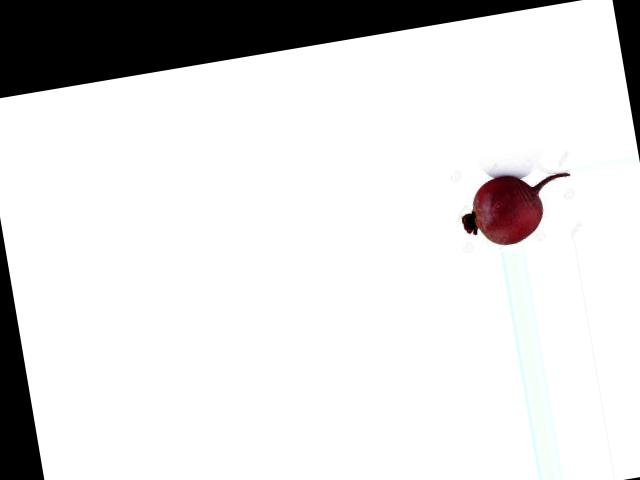beet: (456, 165, 579, 250)
